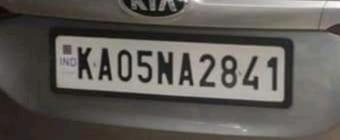0: (116, 46, 135, 83)
1: (265, 53, 280, 92)
2: (198, 51, 217, 89)
4: (241, 53, 262, 91)
5: (135, 46, 154, 84)
8: (220, 51, 238, 89)
A: (96, 43, 115, 85), (177, 52, 196, 89)
K: (76, 42, 93, 81)
N: (156, 48, 175, 85)
